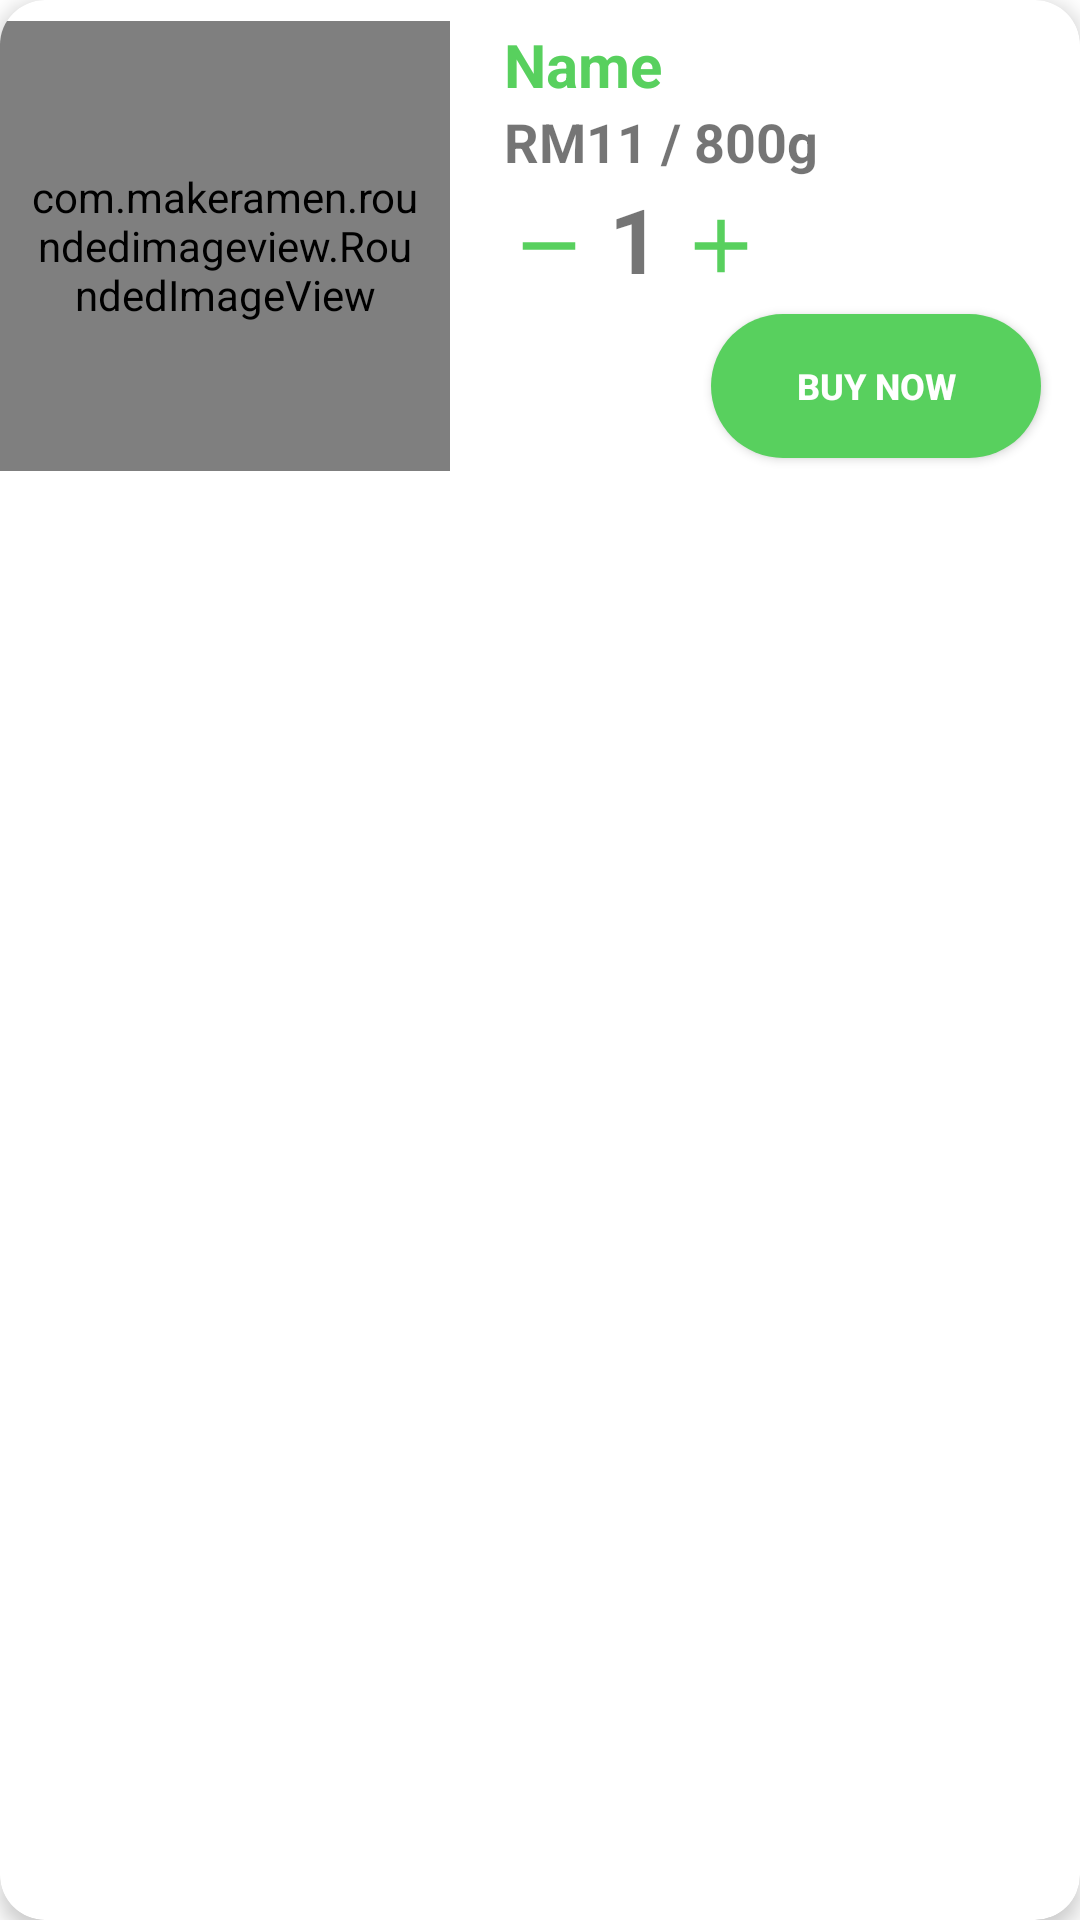

Icon click points for this 1080px x 1920px phone screenshot, format [x,y]:
add: [721,246]
